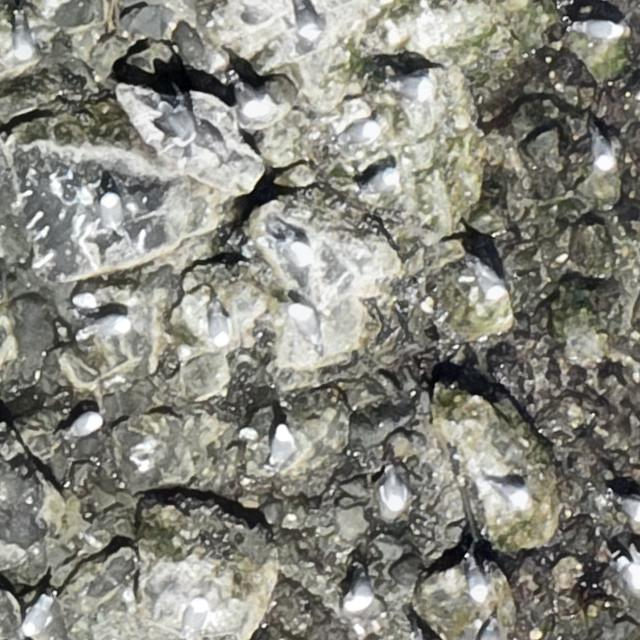umineko: (341, 571, 379, 621), (383, 70, 437, 102), (78, 314, 130, 344), (382, 467, 416, 511), (96, 189, 128, 234), (292, 301, 320, 352), (490, 479, 532, 513), (208, 299, 231, 351), (476, 266, 506, 304), (464, 558, 486, 603), (298, 6, 324, 44), (577, 20, 620, 40), (69, 411, 101, 435), (364, 172, 396, 195), (270, 428, 289, 463), (593, 137, 612, 169), (355, 118, 381, 139), (621, 500, 640, 522), (480, 623, 498, 640)
